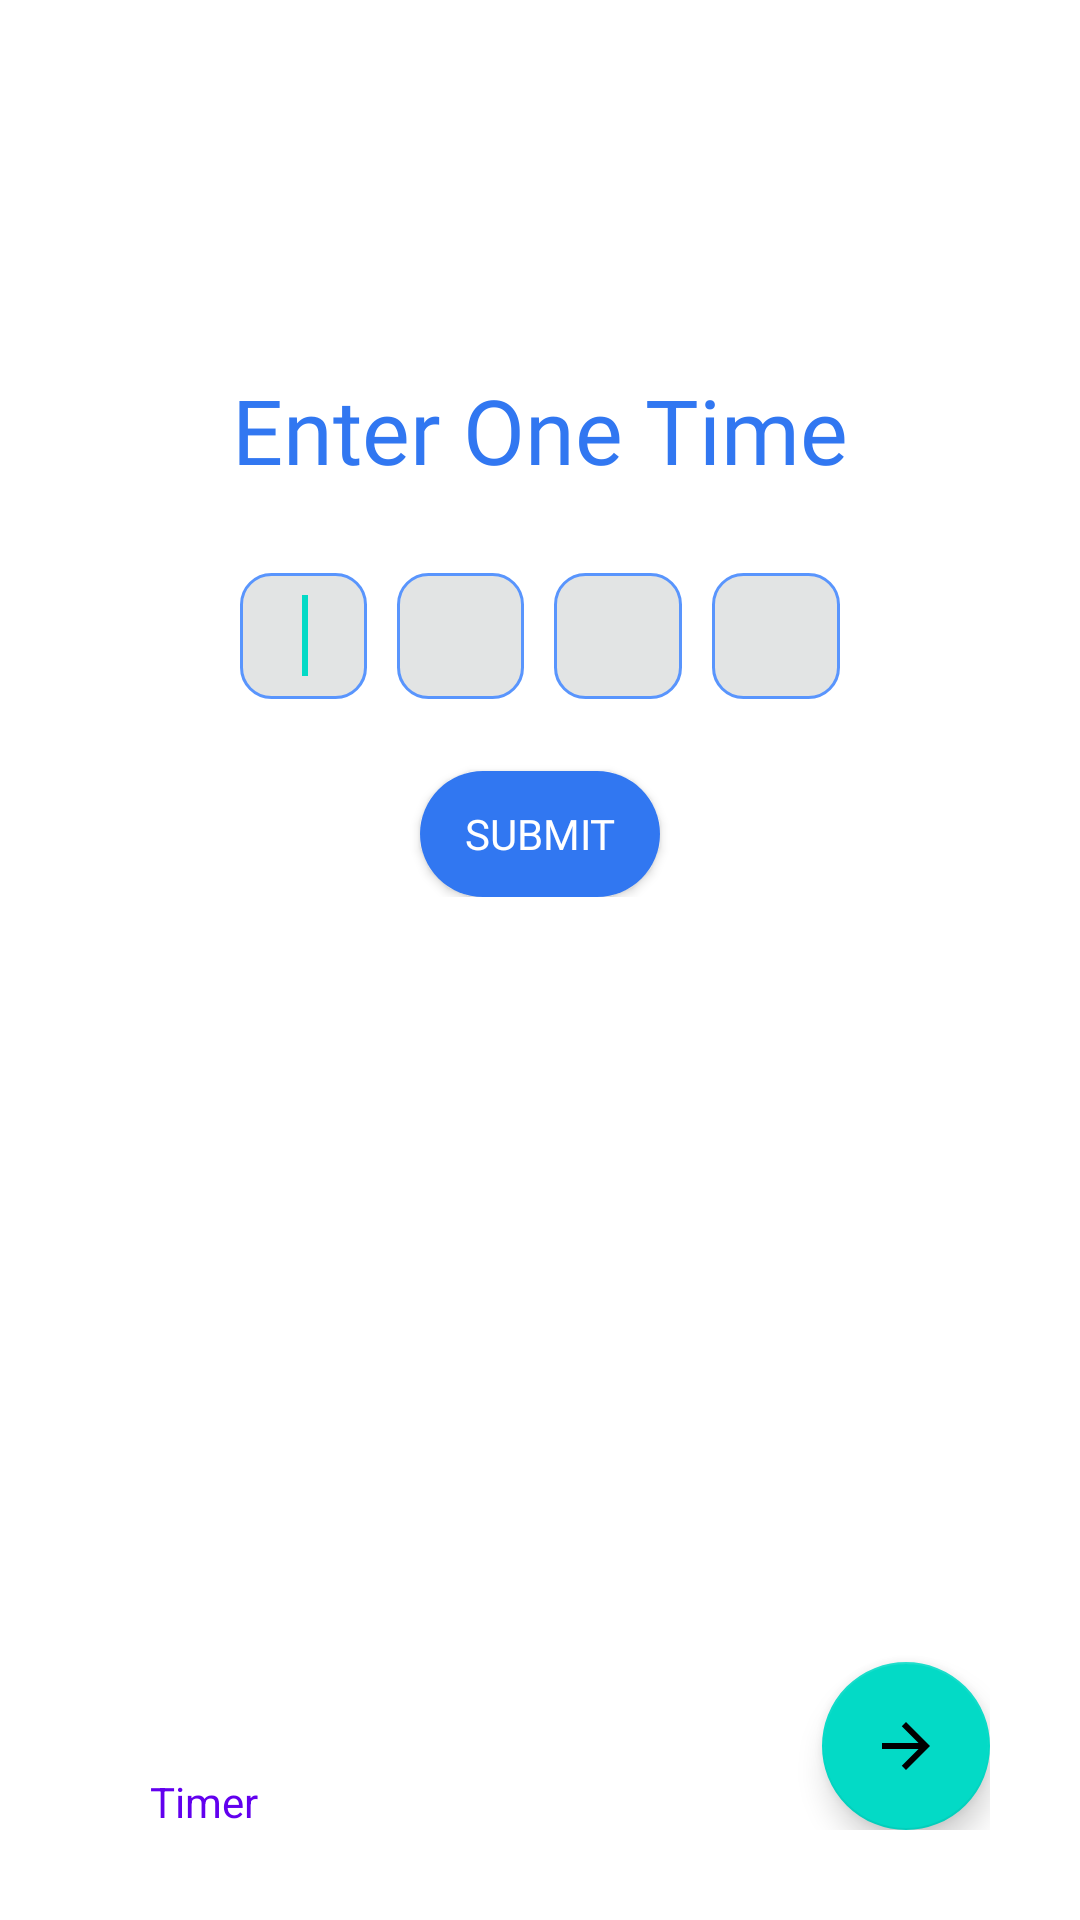

Point at icon controls on the screen. Image size 1080 × 1920, points as (x=x, y=y).
arrow forward: (x=906, y=1746)
